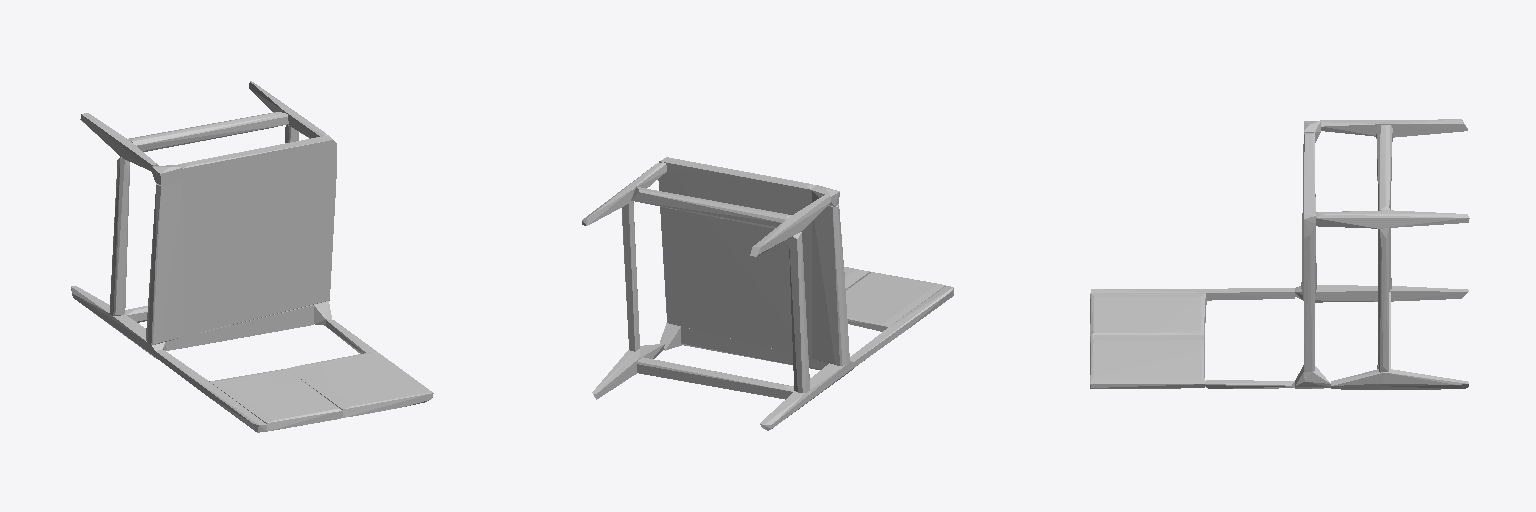
3 renders of one model, left to right at view 1: azimuth 30°, elevation 25°; view 2: azimuth 150°, elevation 25°; view 3: azimuth 270°, elevation 25°, orthographic.
Parts seen in each view (by area): view 1: convex_0, convex_4, convex_6, convex_2, convex_11, convex_12, convex_5, convex_1, convex_9, convex_15, convex_13, convex_3 (+1 smaller); view 2: convex_0, convex_6, convex_2, convex_10, convex_11, convex_5, convex_12, convex_8, convex_9, convex_1, convex_15, convex_14 (+1 smaller); view 3: convex_4, convex_2, convex_0, convex_13, convex_9, convex_14, convex_15, convex_8, convex_1, convex_11, convex_3, convex_16.
Part boxes in pixels (x1,y1,x2,y2): convex_0: (178, 135, 336, 336); convex_4: (287, 351, 433, 417); convex_6: (146, 181, 182, 344); convex_2: (209, 369, 342, 431); convex_11: (128, 112, 288, 151); convex_12: (165, 305, 313, 350); convex_5: (109, 157, 129, 315); convex_1: (155, 349, 266, 432); convex_9: (71, 286, 165, 358); convex_15: (80, 113, 158, 171); convex_13: (249, 81, 326, 138); convex_3: (326, 320, 375, 353); convex_0: (658, 157, 815, 357); convex_6: (812, 202, 849, 365); convex_2: (846, 272, 945, 331); convex_10: (637, 357, 793, 399); convex_11: (631, 187, 791, 228); convex_5: (788, 232, 809, 392); convex_12: (681, 327, 828, 369); convex_8: (622, 201, 639, 351); convex_9: (760, 361, 853, 430); convex_1: (850, 286, 953, 367); convex_15: (750, 194, 830, 256); convex_14: (592, 344, 664, 399); convex_4: (1090, 335, 1204, 388); convex_2: (1090, 293, 1206, 341); convex_0: (1304, 133, 1315, 372); convex_13: (1316, 210, 1469, 228); convex_9: (1295, 285, 1468, 302); convex_14: (1331, 369, 1468, 389); convex_15: (1321, 119, 1467, 137); convex_8: (1378, 228, 1388, 372); convex_1: (1090, 288, 1294, 300); convex_11: (1376, 125, 1392, 210); convex_3: (1205, 380, 1294, 388); convex_16: (1295, 365, 1330, 388).
Bounding box in the file's own units: 0.4422 × 0.4332 × 0.7783.